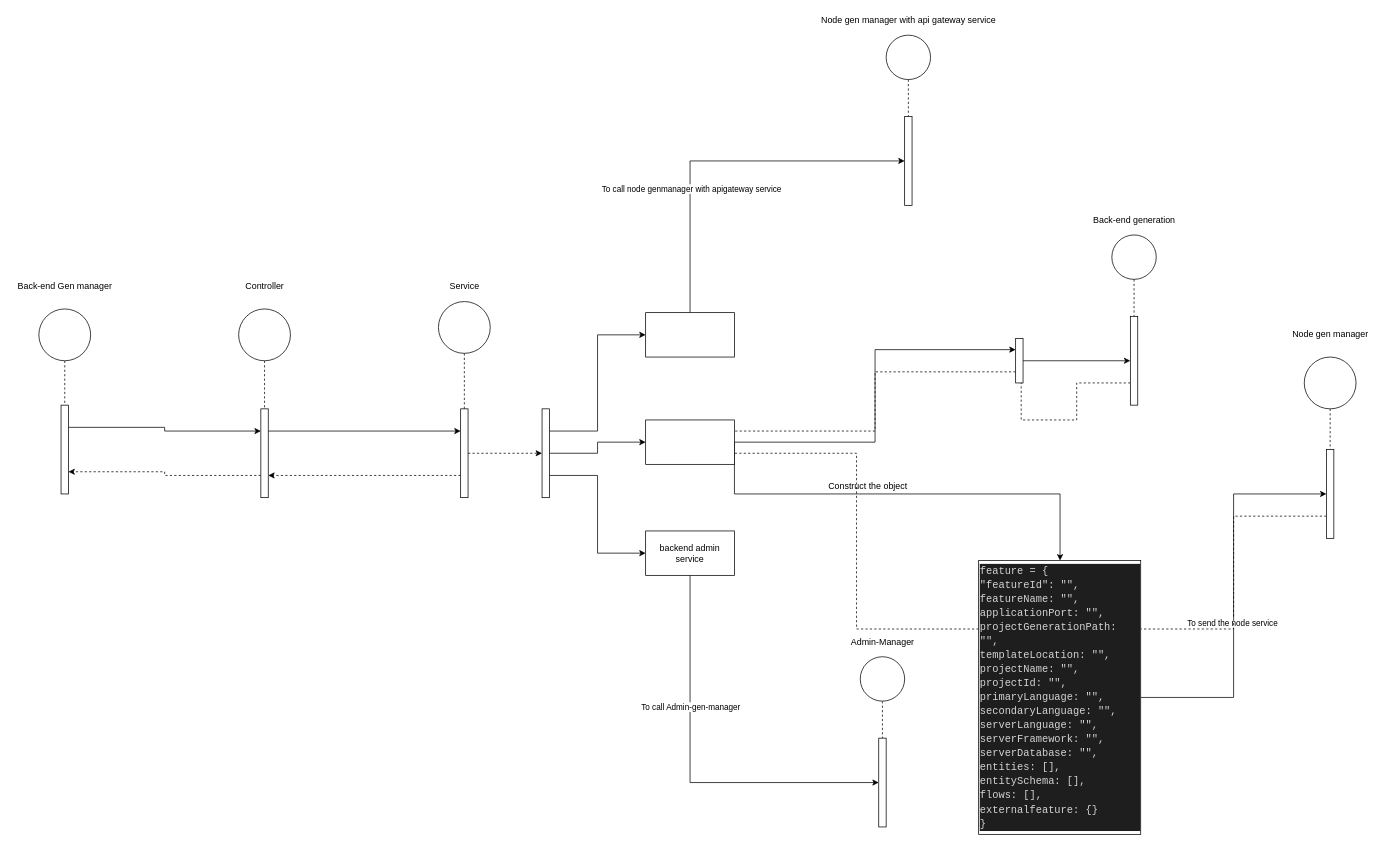
The diagram is 1387 pixels wide and 847 high, and some of its shapes have lost their labels. The centre of each missing label's shape, as x and y in pixels:
"API gateway service" belongs at (689,334).
"Backend Sevice" belongs at (689,441).
